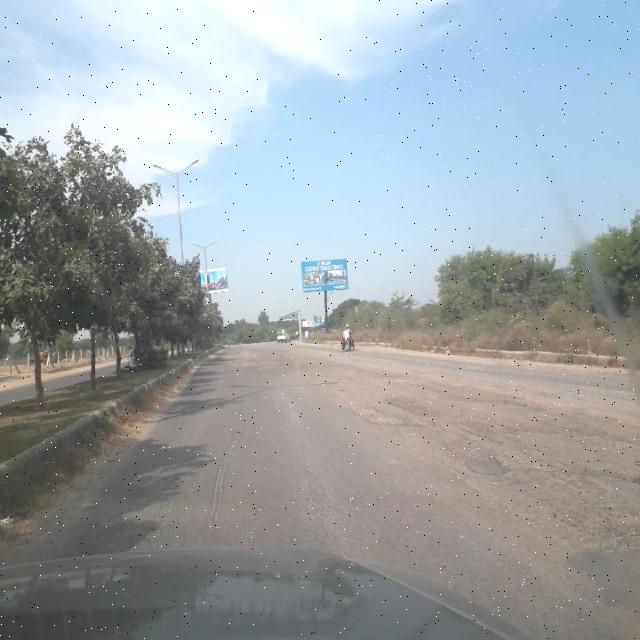D00: (208, 413, 247, 528)
D40: (453, 389, 640, 566), (341, 387, 447, 452), (222, 345, 315, 367)
